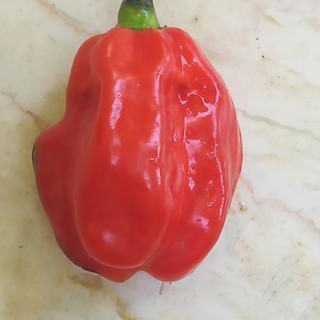Grade-A: (27, 24, 255, 283)
